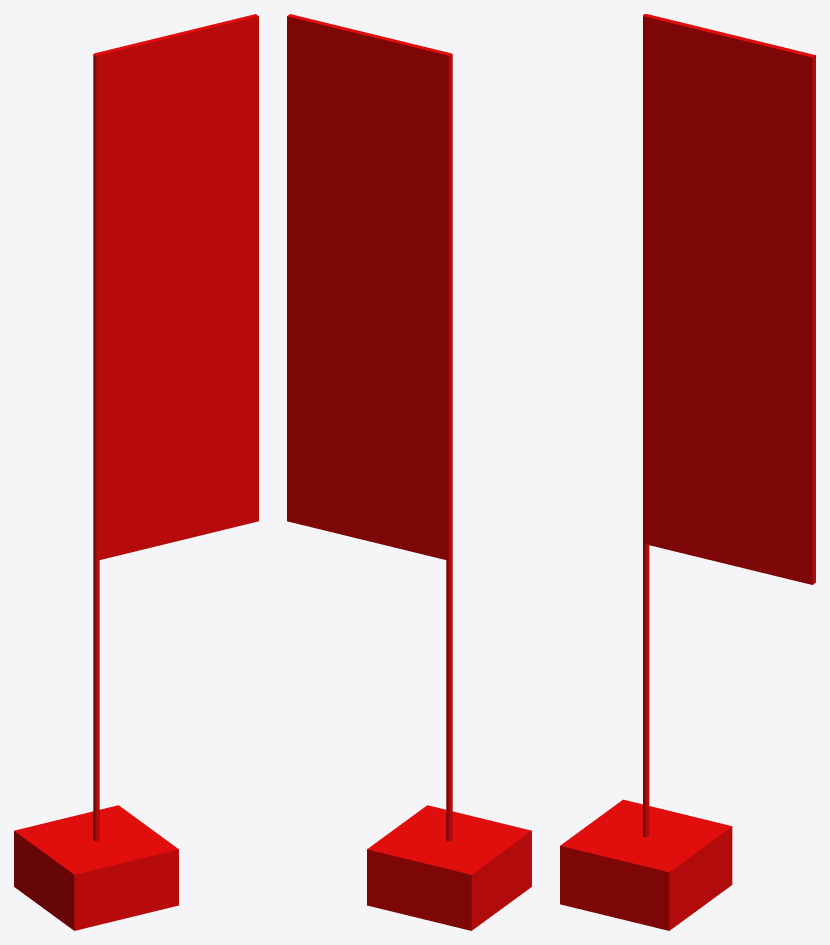
File: flag_red.obj
The picture shows the model from 3 angles, left to right: view 1: azimuth 30°, elevation 25°; view 2: azimuth 150°, elevation 25°; view 3: azimuth 330°, elevation 25°; orthographic projection. The views are drawn at different scales.
Visible parts, largest first — view 1: mesh0.007; view 2: mesh0.007; view 3: mesh0.007.
Part boxes in pixels (x1,y1,x2,y2): mesh0.007: [14, 14, 258, 930]; mesh0.007: [287, 14, 531, 930]; mesh0.007: [560, 14, 815, 930].
Size of the model in its own units: 0.795 by 3 by 0.39.
